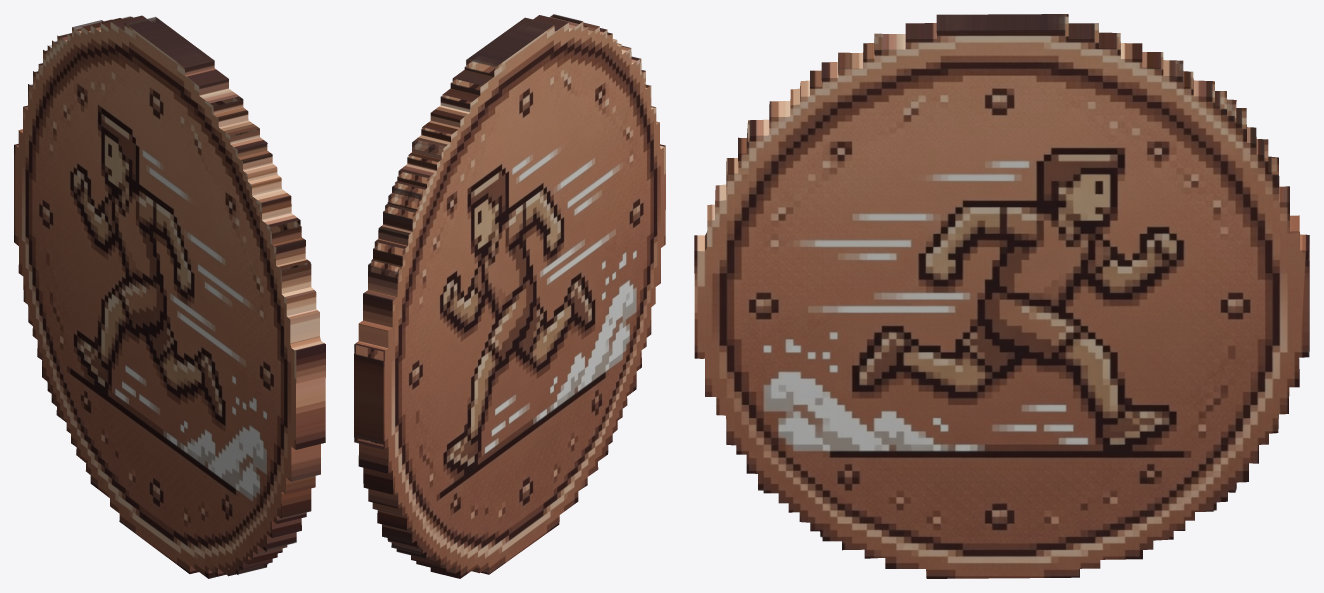
File: sprint_shoes.glb
3 renders of one model, left to right at view 1: azimuth 30°, elevation 25°; view 2: azimuth 150°, elevation 25°; view 3: azimuth 270°, elevation 25°, orthographic. The views are drawn at different scales.
Parts seen in each view (by area): view 1: sprint_shoes; view 2: sprint_shoes; view 3: sprint_shoes.
Part boxes in pixels (<box>): sprint_shoes: <box>14,15,325,578</box>; sprint_shoes: <box>354,14,665,578</box>; sprint_shoes: <box>694,14,1309,578</box>.
Bounding box in the file's own units: 0.0541 × 0.878 × 0.8912.
Materials: 1 (1 with a texture image).
